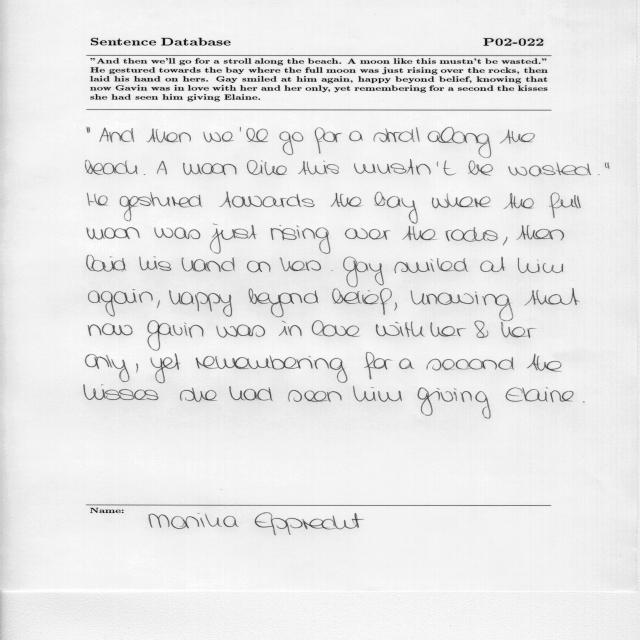word: (196, 355, 348, 383), (120, 192, 202, 221), (417, 388, 491, 419), (438, 292, 514, 321), (249, 289, 319, 318), (428, 127, 492, 158), (88, 289, 153, 316), (332, 288, 397, 315), (271, 225, 331, 254), (169, 290, 232, 317), (148, 321, 204, 351), (354, 160, 456, 176), (219, 192, 315, 208), (210, 224, 257, 254), (375, 192, 418, 224), (86, 354, 130, 382), (343, 257, 384, 287), (509, 163, 592, 177), (426, 357, 514, 370), (84, 385, 159, 400), (395, 258, 469, 273), (431, 320, 489, 338), (506, 387, 574, 402), (525, 288, 580, 306), (151, 354, 181, 384), (432, 194, 490, 209), (549, 193, 581, 219), (182, 257, 235, 272), (353, 386, 402, 402), (86, 160, 138, 175), (446, 227, 498, 242), (364, 352, 392, 379), (312, 321, 359, 337), (516, 225, 564, 240), (315, 128, 342, 154), (374, 127, 420, 142), (87, 227, 140, 240), (87, 255, 127, 272), (518, 258, 563, 273), (229, 386, 273, 401), (183, 163, 237, 175), (216, 325, 265, 338), (288, 390, 341, 402), (147, 129, 191, 143), (247, 160, 287, 175), (527, 354, 561, 371), (298, 161, 339, 175), (280, 258, 321, 272), (501, 322, 536, 338), (180, 387, 217, 402), (280, 132, 304, 155), (154, 227, 200, 239), (88, 324, 133, 336), (500, 129, 535, 144), (345, 229, 390, 240), (100, 128, 135, 142), (402, 226, 437, 240), (504, 193, 534, 209), (140, 256, 172, 271), (331, 193, 362, 207), (240, 127, 268, 142), (376, 322, 404, 336), (411, 291, 438, 305), (468, 161, 493, 176), (480, 257, 505, 272), (204, 132, 234, 143), (279, 321, 301, 336), (405, 321, 425, 337), (87, 193, 108, 206), (247, 261, 271, 272), (399, 358, 414, 369), (349, 131, 363, 141), (157, 161, 167, 174), (503, 237, 507, 246), (605, 163, 609, 169), (157, 300, 160, 308), (136, 363, 138, 373), (87, 127, 90, 133), (144, 174, 146, 175), (598, 174, 600, 175), (583, 402, 585, 403), (332, 270, 333, 271)
